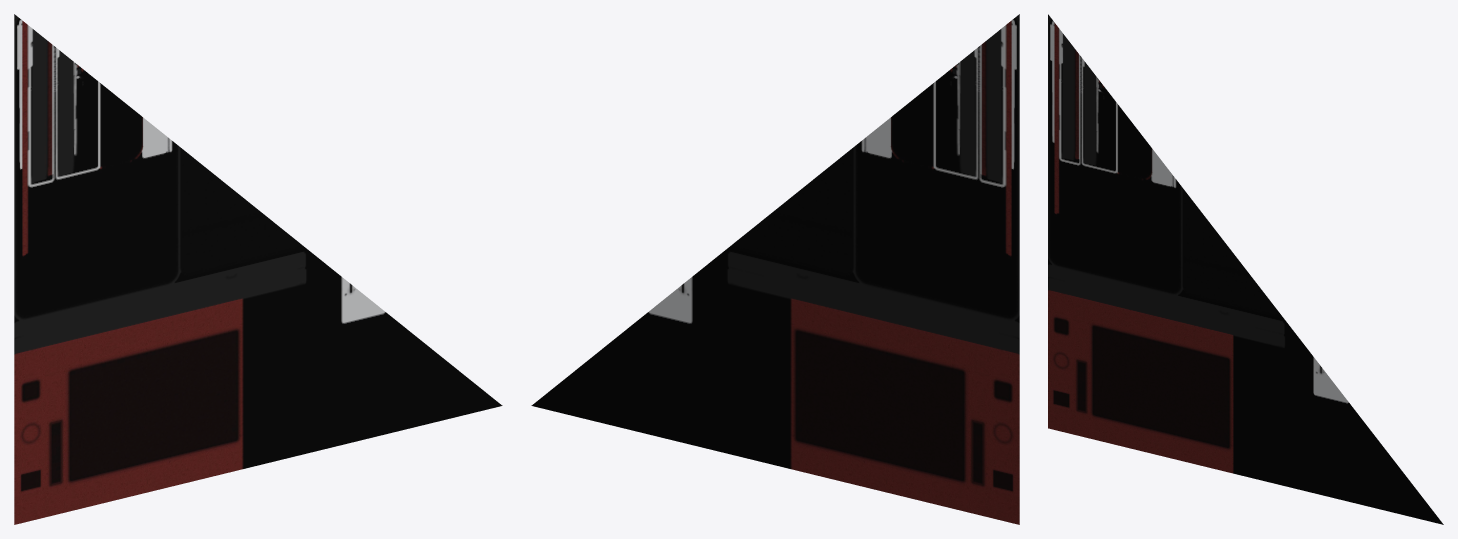
The model's file is film_skin_red.glb.
3 views of the same model, side by side, from view 1: azimuth 30°, elevation 25°; view 2: azimuth 150°, elevation 25°; view 3: azimuth 330°, elevation 25° (orthographic). The views are drawn at different scales.
Visible parts, largest first — view 1: swatch; view 2: swatch; view 3: swatch.
Part boxes in pixels (box(x1,y1,x2,y2)): swatch: box(14, 14, 502, 524); swatch: box(531, 14, 1019, 524); swatch: box(1048, 14, 1443, 524).
Size of the model in its own units: 1 by 1 by 0.
Materials: 1 (1 with a texture image).
